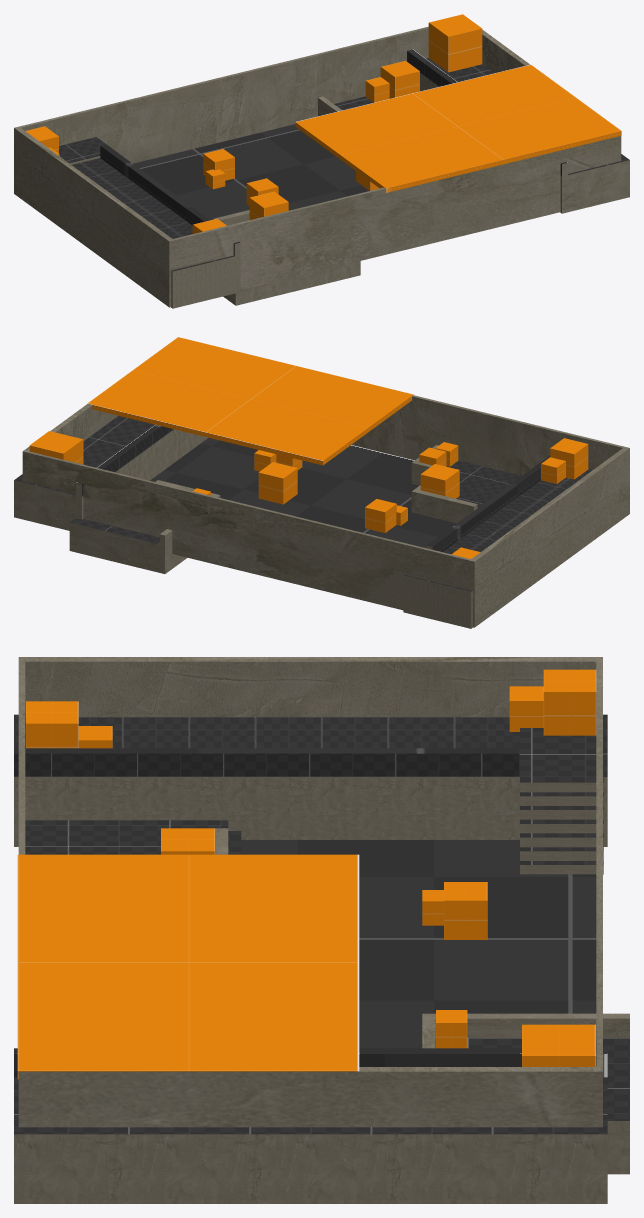
3 renders of one model, top to bottom at view 1: azimuth 30°, elevation 25°; view 2: azimuth 150°, elevation 25°; view 3: azimuth 270°, elevation 25°, orthographic. The views are drawn at different scales.
Parts seen in each view (by area): view 1: Plane, Cube.028, Cube.003, Cube, Cube.015, Cube.005, Cube.012, Cube.004, Cube.014, Cube.016, Cube.001, Cube.013 (+2 smaller); view 2: Plane, Cube.028, Cube, Cube.003, Cube.001, Cube.005, Cube.007, Cube.015, Cube.014, Cube.023, Cube.004, Cube.017 (+2 smaller); view 3: Plane, Cube.028, Cube.003, Cube, Cube.004, Cube.001, Cube.005, Cube.021, Cube.015, Cube.016, Cube.023, Cube.027 (+4 smaller).
Boxes of the visible parts, x1=… form: Plane: x1=14, y1=26, x2=621, y2=307; Cube.028: x1=295, y1=64, x2=621, y2=192; Cube.003: x1=72, y1=144, x2=240, y2=308; Cube: x1=407, y1=49, x2=629, y2=213; Cube.015: x1=428, y1=14, x2=482, y2=72; Cube.005: x1=214, y1=210, x2=360, y2=305; Cube.012: x1=380, y1=61, x2=419, y2=98; Cube.004: x1=59, y1=137, x2=105, y2=164; Cube.014: x1=249, y1=191, x2=288, y2=219; Cube.016: x1=203, y1=149, x2=234, y2=180; Cube.001: x1=318, y1=96, x2=373, y2=116; Cube.013: x1=365, y1=77, x2=389, y2=102; Plane: x1=22, y1=395, x2=629, y2=627; Cube.028: x1=87, y1=337, x2=413, y2=465; Cube: x1=14, y1=415, x2=207, y2=530; Cube.003: x1=403, y1=455, x2=592, y2=628; Cube.001: x1=69, y1=480, x2=220, y2=573; Cube.005: x1=411, y1=445, x2=521, y2=523; Cube.007: x1=258, y1=462, x2=297, y2=504; Cube.015: x1=29, y1=431, x2=83, y2=464; Cube.014: x1=420, y1=464, x2=459, y2=498; Cube.023: x1=550, y1=438, x2=588, y2=479; Cube.004: x1=367, y1=569, x2=457, y2=607; Cube.017: x1=365, y1=499, x2=396, y2=532; Plane: x1=18, y1=657, x2=602, y2=1127; Cube.028: x1=17, y1=854, x2=359, y2=1079; Cube.003: x1=14, y1=714, x2=607, y2=846; Cube: x1=14, y1=1048, x2=607, y2=1203; Cube.004: x1=520, y1=724, x2=603, y2=874; Cube.001: x1=422, y1=1013, x2=629, y2=1174; Cube.005: x1=25, y1=820, x2=228, y2=854; Cube.021: x1=543, y1=669, x2=596, y2=735; Cube.015: x1=522, y1=1024, x2=595, y2=1066; Cube.016: x1=444, y1=882, x2=487, y2=939; Cube.023: x1=26, y1=701, x2=78, y2=748; Cube.027: x1=509, y1=686, x2=543, y2=731.
Bounding box in the file's own units: 47.47 × 8.59 × 29.33.
Materials: 3 (3 with a texture image).
